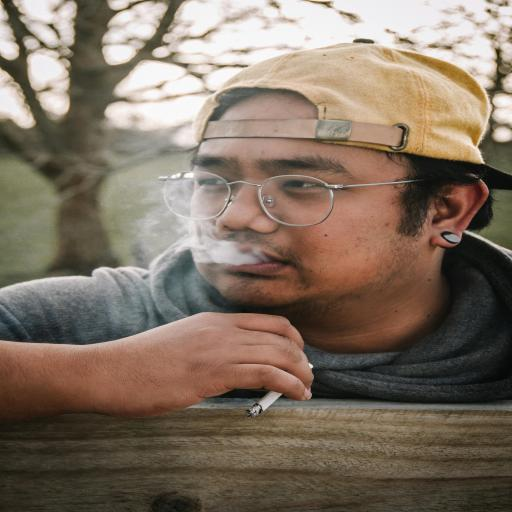terdeteksi pegang rokok: (194, 295, 341, 441)
